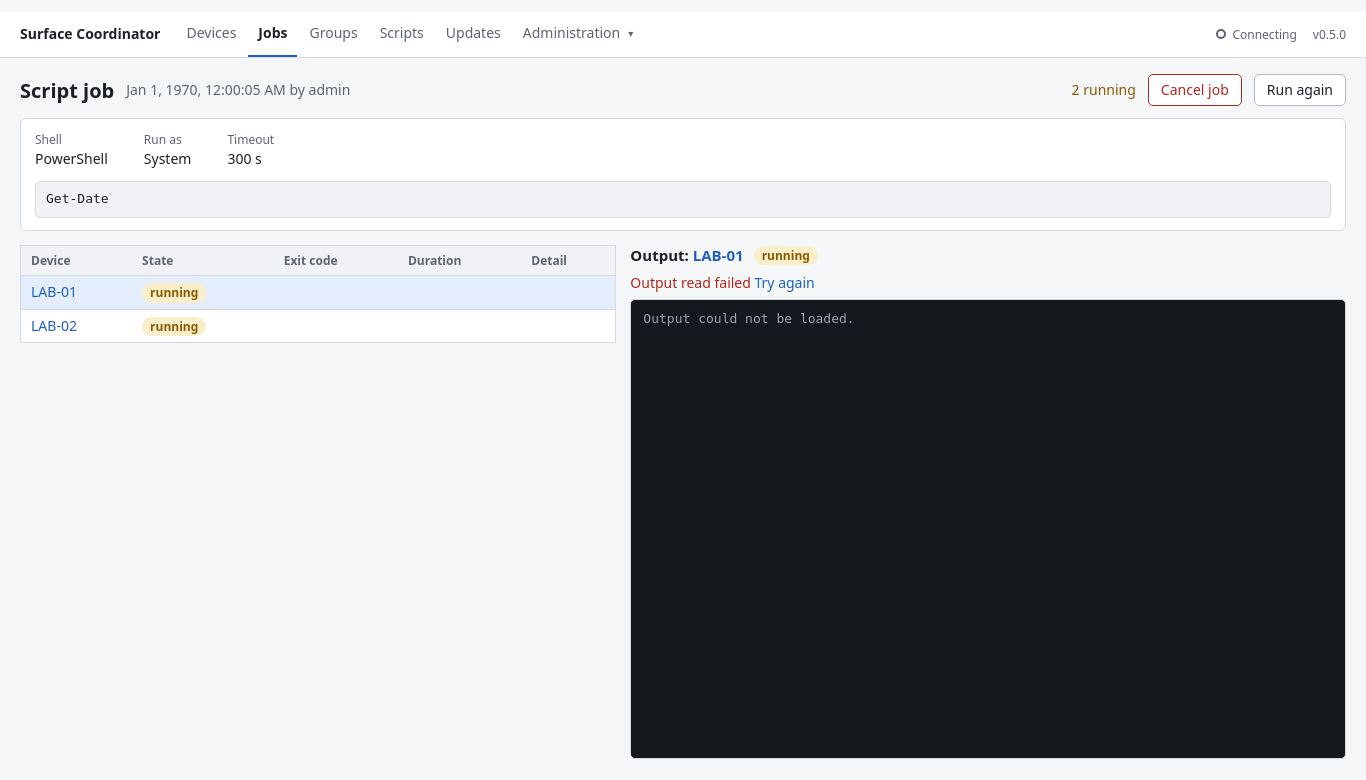
Test: offers a scoped retry when the output request fails
Check: the text "Output read failed" is shown, box [630, 273, 751, 292]
Check: the element named "Output of LAB-01" shows "Output could not be loaded", box [643, 311, 855, 326]
Click the button "Try again": coordinates (785, 283) [754, 273, 815, 293]
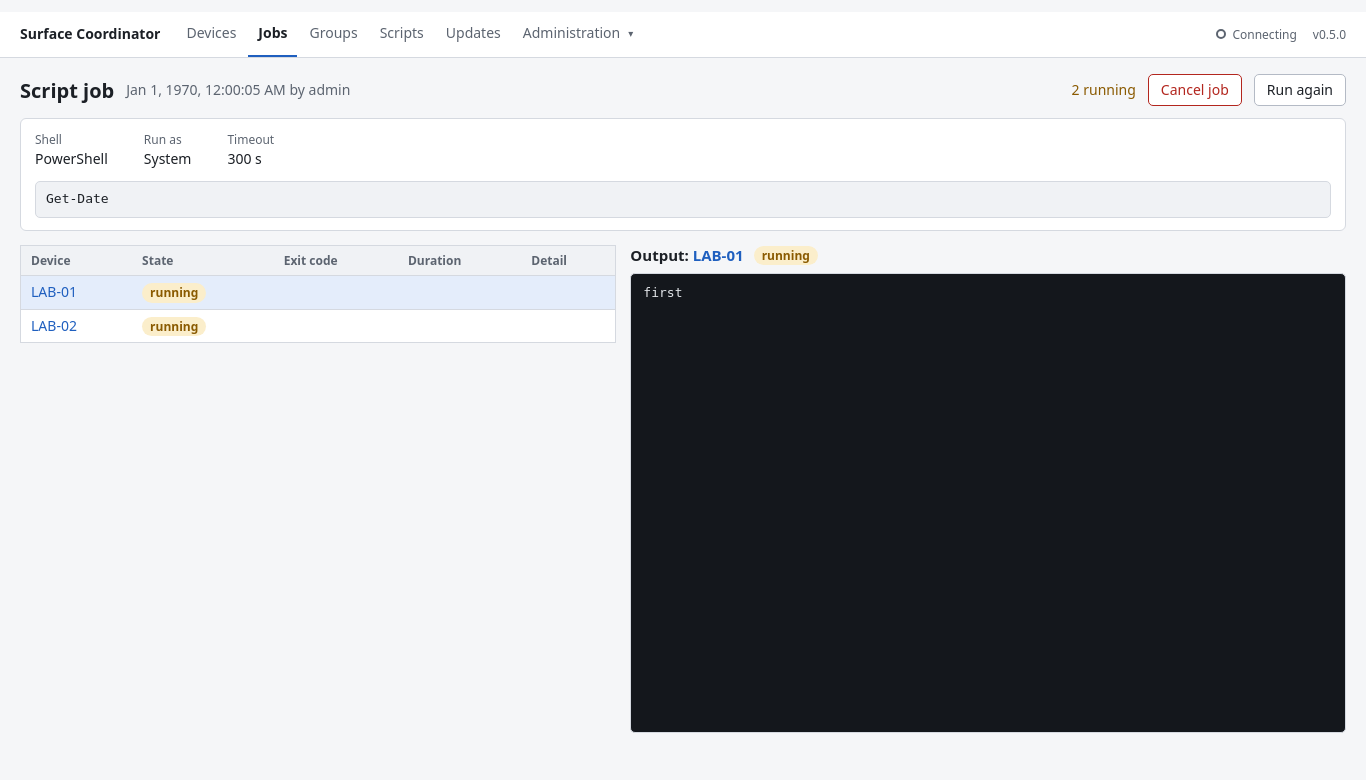
Check: the text named "Output of LAB-01" reads "first", box [643, 285, 682, 300]
